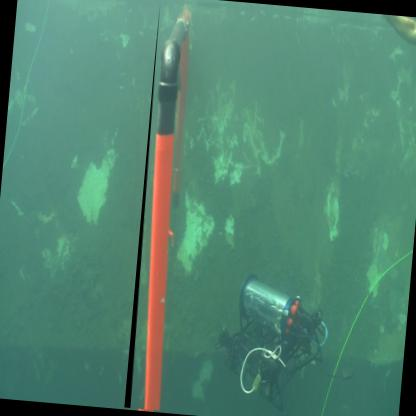gate: (126, 2, 201, 413)
